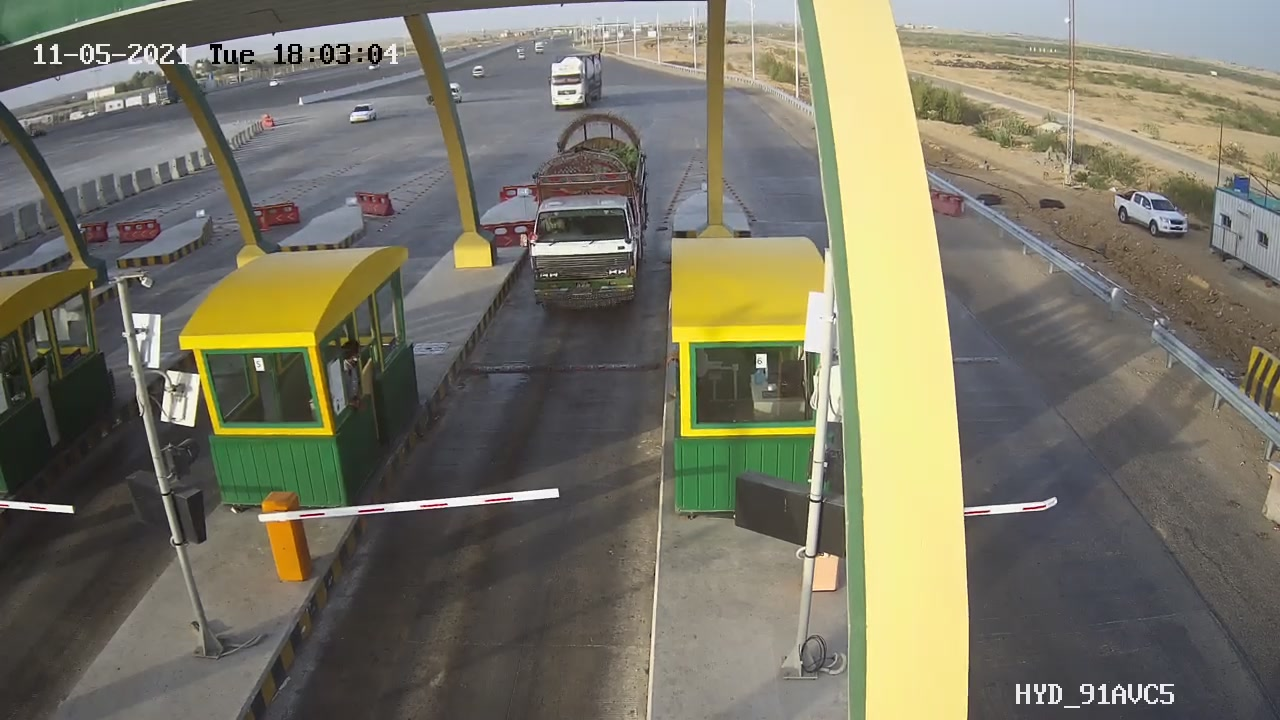F5: (507, 100, 668, 335)
